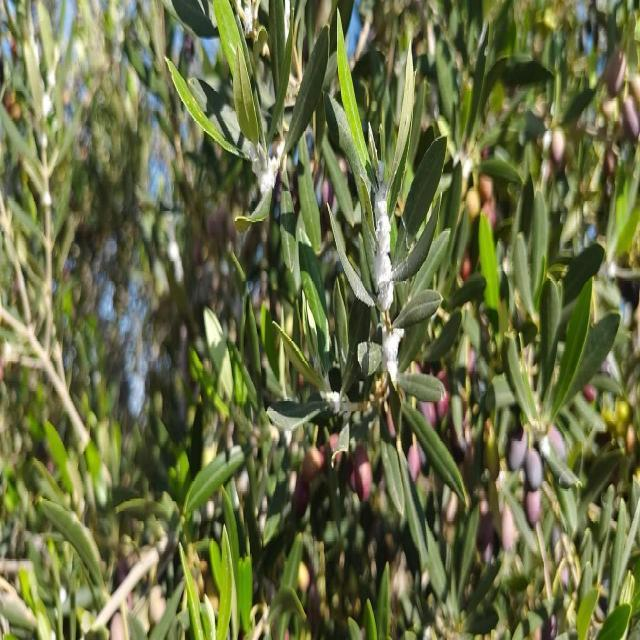Psyllid: (373, 156, 404, 388), (314, 356, 352, 422), (248, 134, 286, 198)
